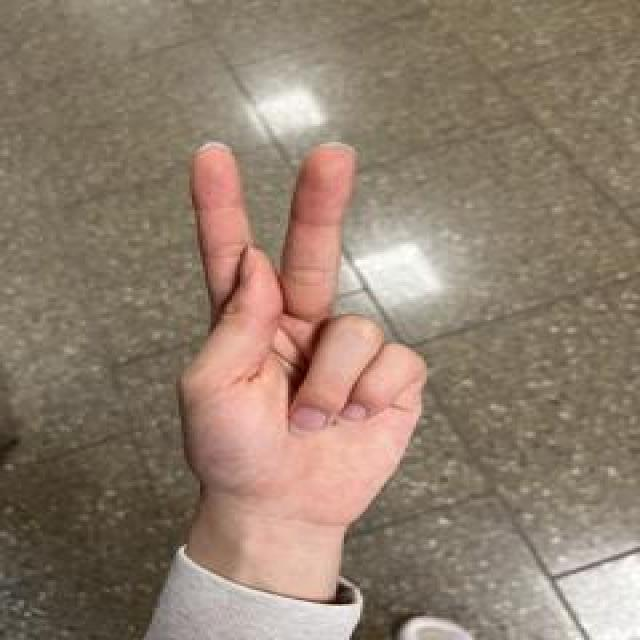K: (172, 136, 431, 530)
